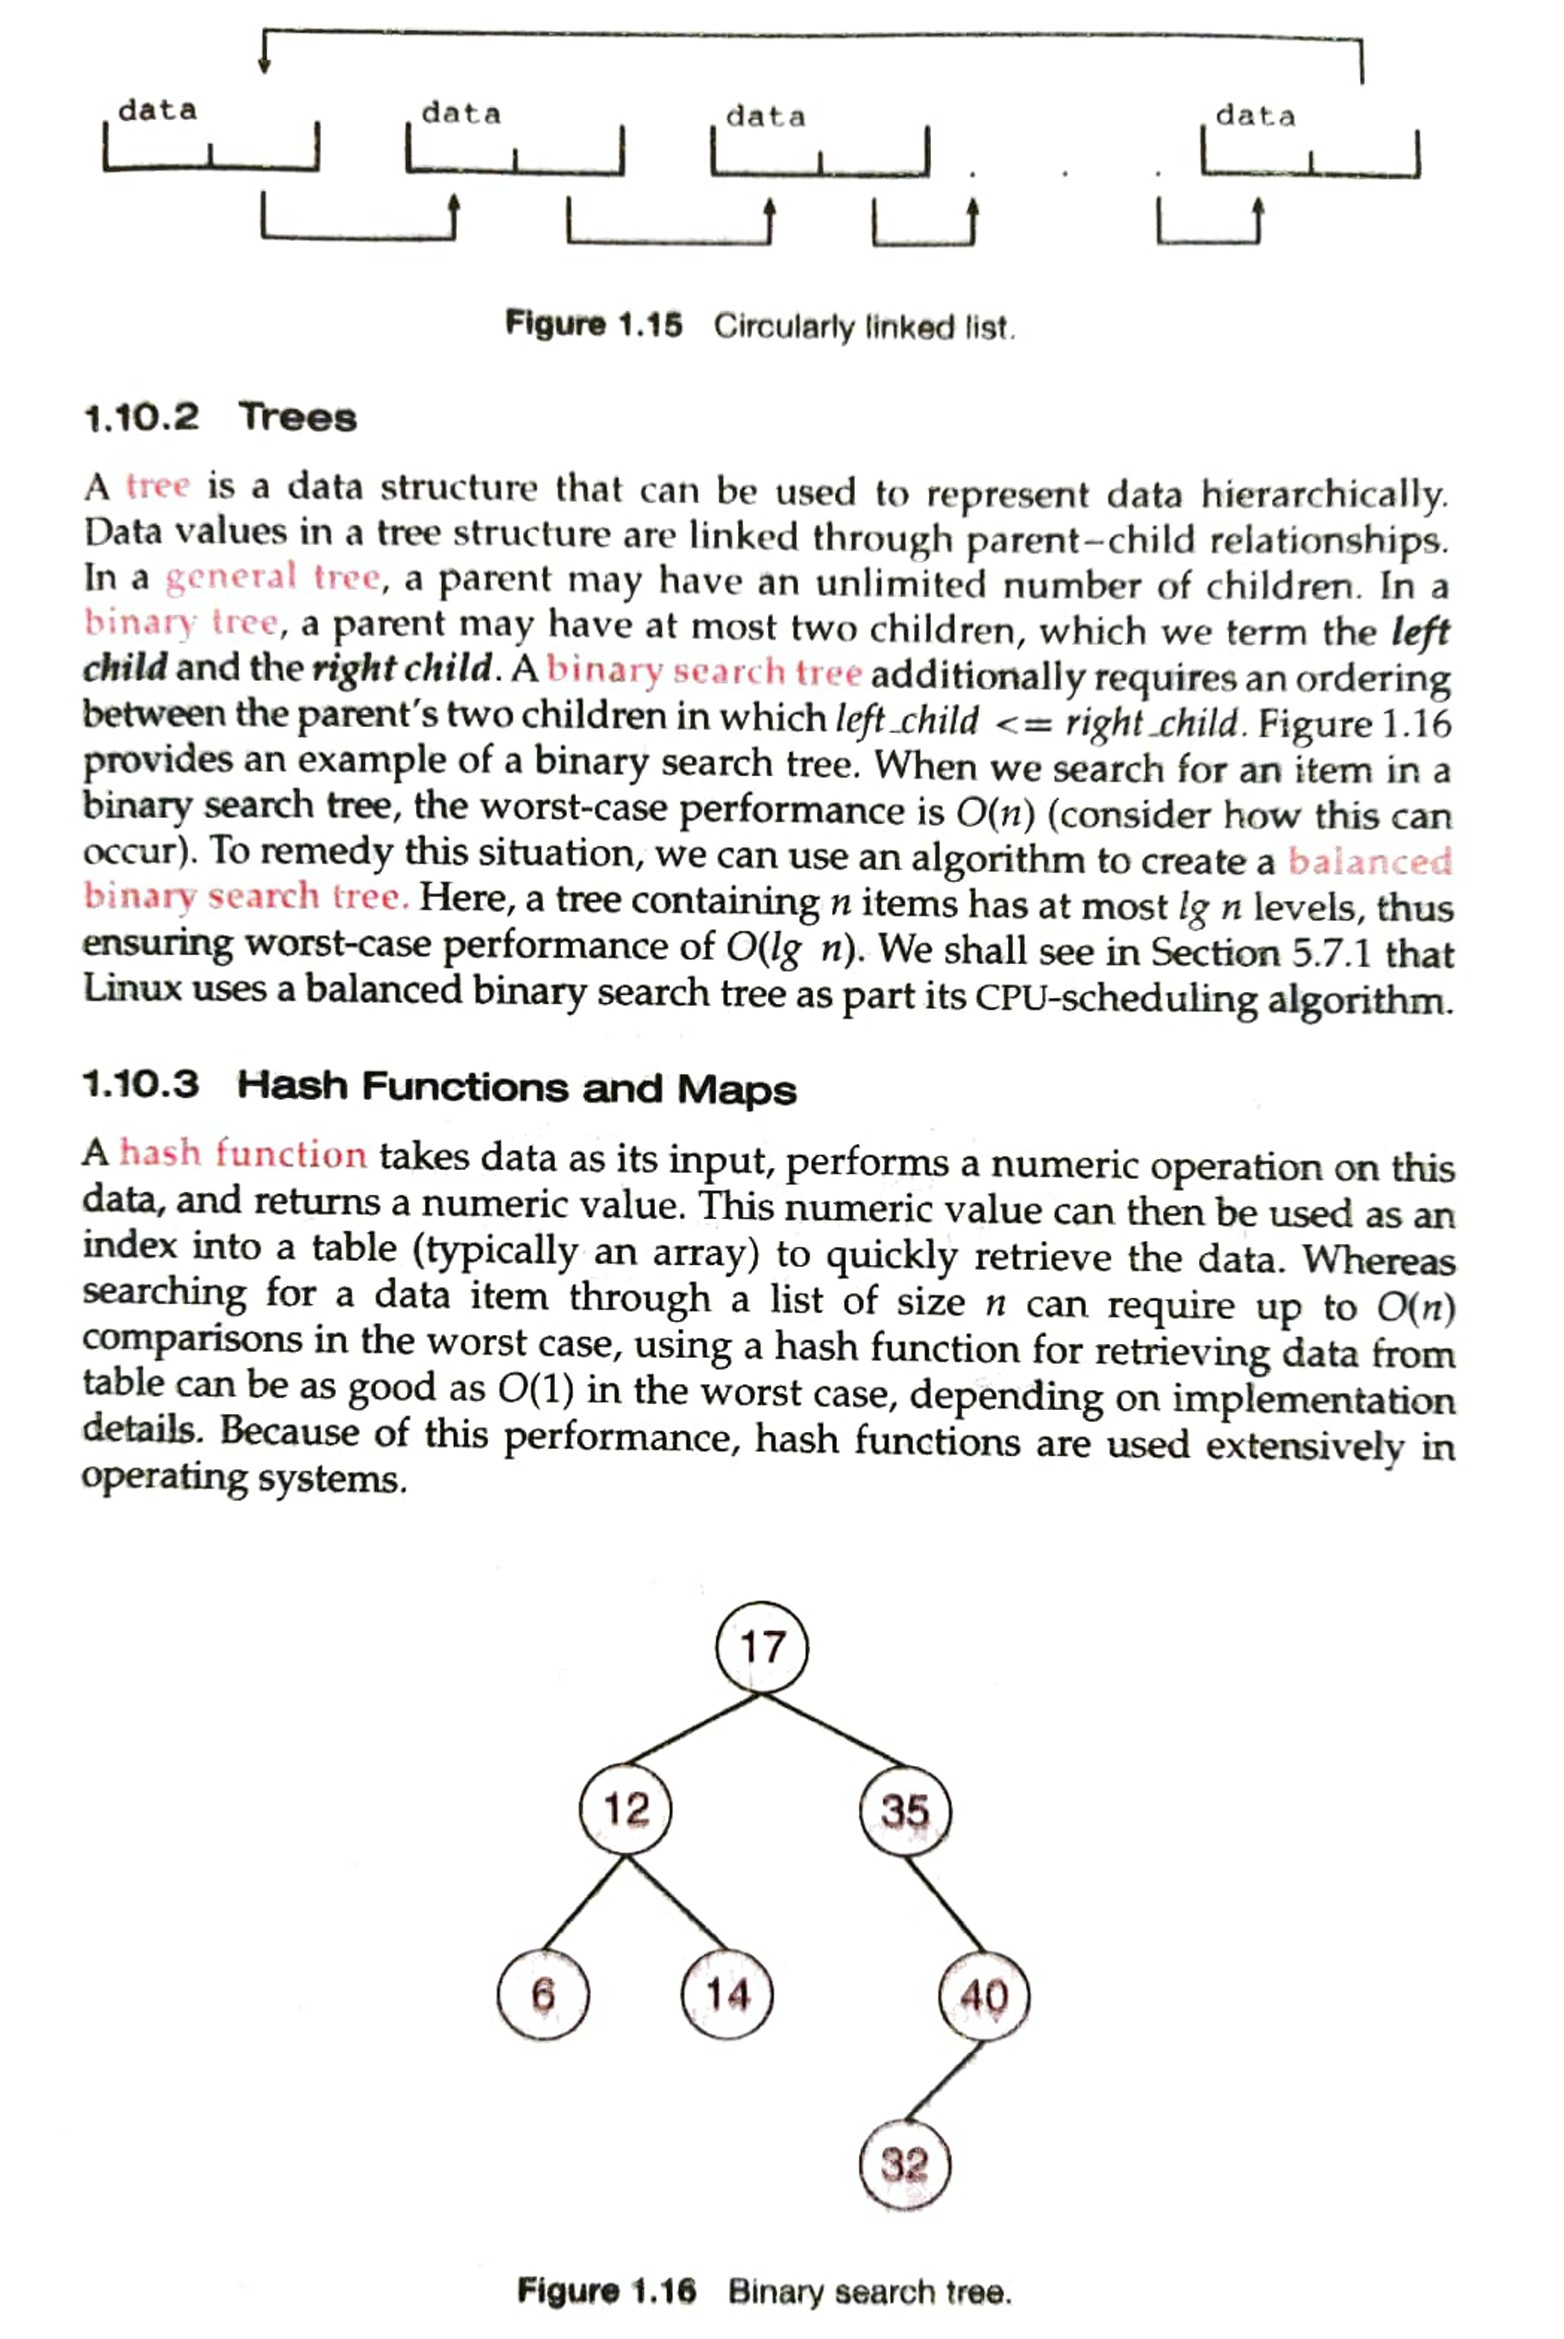BB1: (51, 443, 1489, 1058)
BB2: (52, 1108, 1499, 1533)
